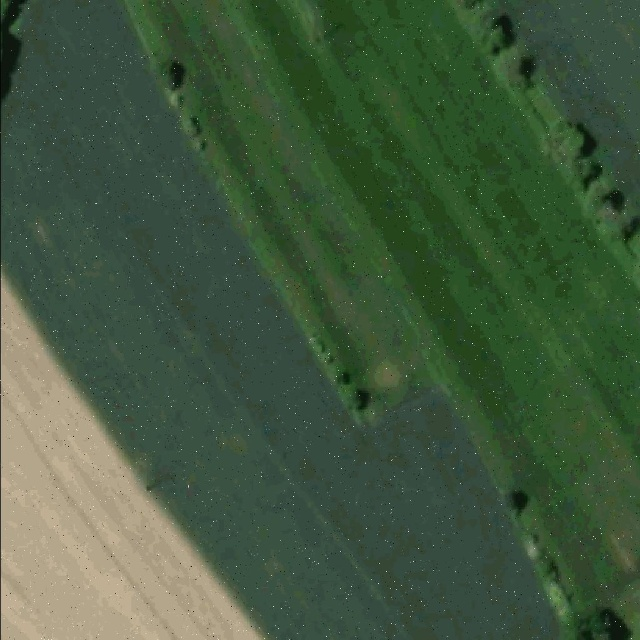vegetation: (448, 1, 638, 286), (500, 486, 627, 640)
